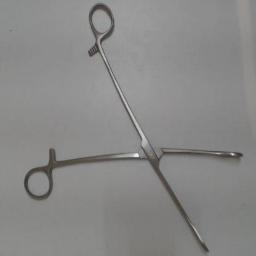Sponge Forceps: (22, 2, 246, 254)
